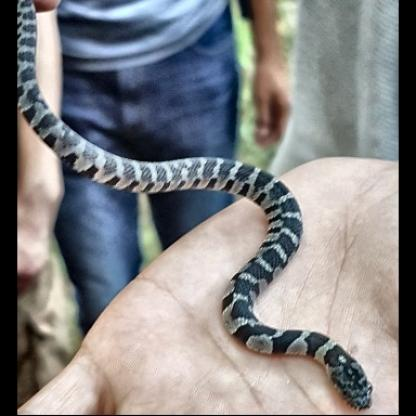Snake: (189, 154, 381, 413), (17, 2, 184, 188)
